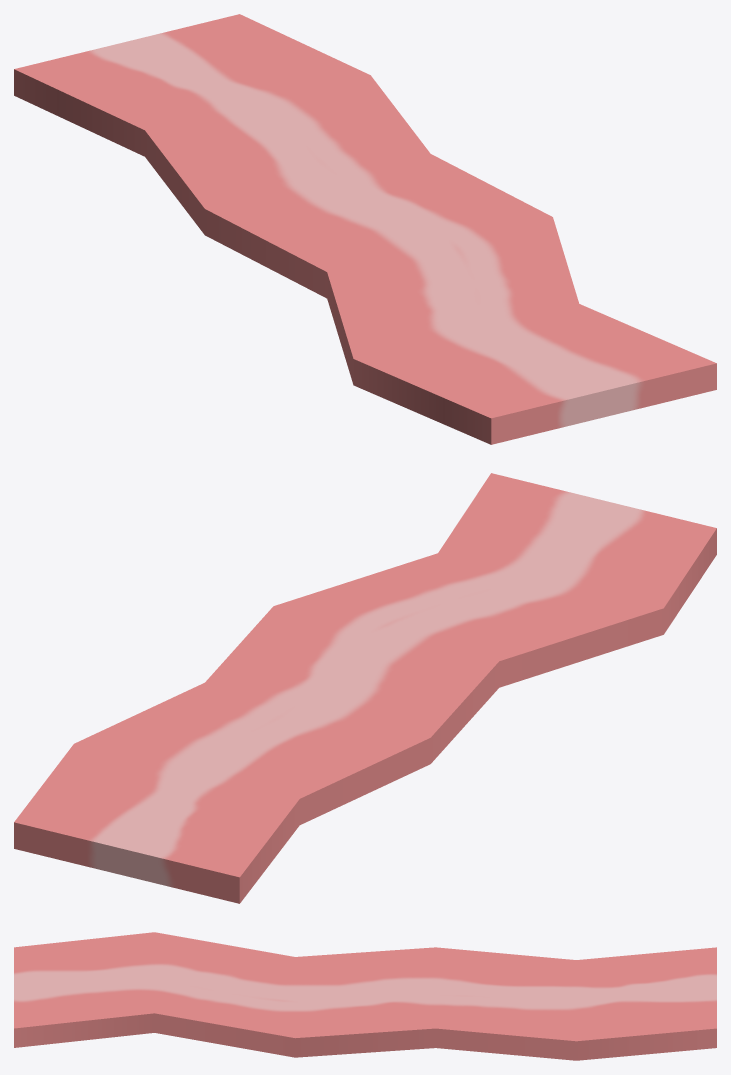
Rendered from rawbacon.FBX.
3 views of the same model, one above another, from view 1: azimuth 30°, elevation 25°; view 2: azimuth 150°, elevation 25°; view 3: azimuth 270°, elevation 25° (orthographic). The views are drawn at different scales.
Visible parts, largest first — view 1: Box001; view 2: Box001; view 3: Box001.
Part boxes in pixels (x1,y1,x2,y2): Box001: (14,14,716,444); Box001: (14,473,716,903); Box001: (14,932,716,1060).
Size of the model in its own units: 25.86 by 2.16 by 70.42.
Materials: 1 (1 with a texture image).
